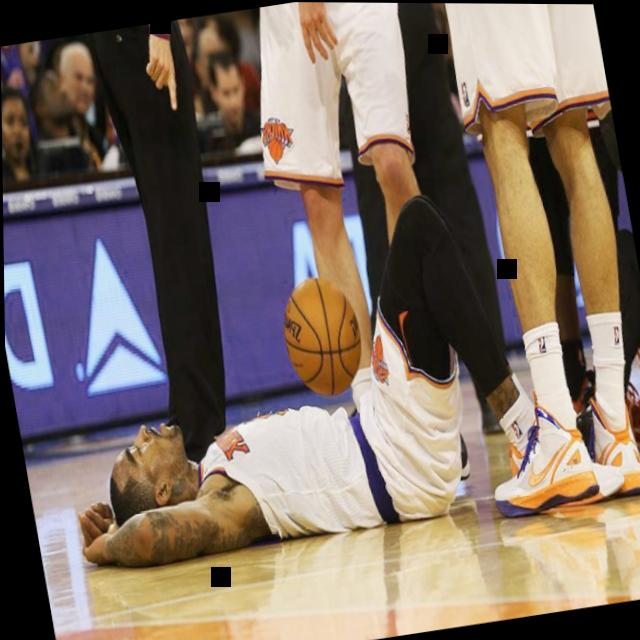Fall-Detected: (20, 176, 565, 603)
